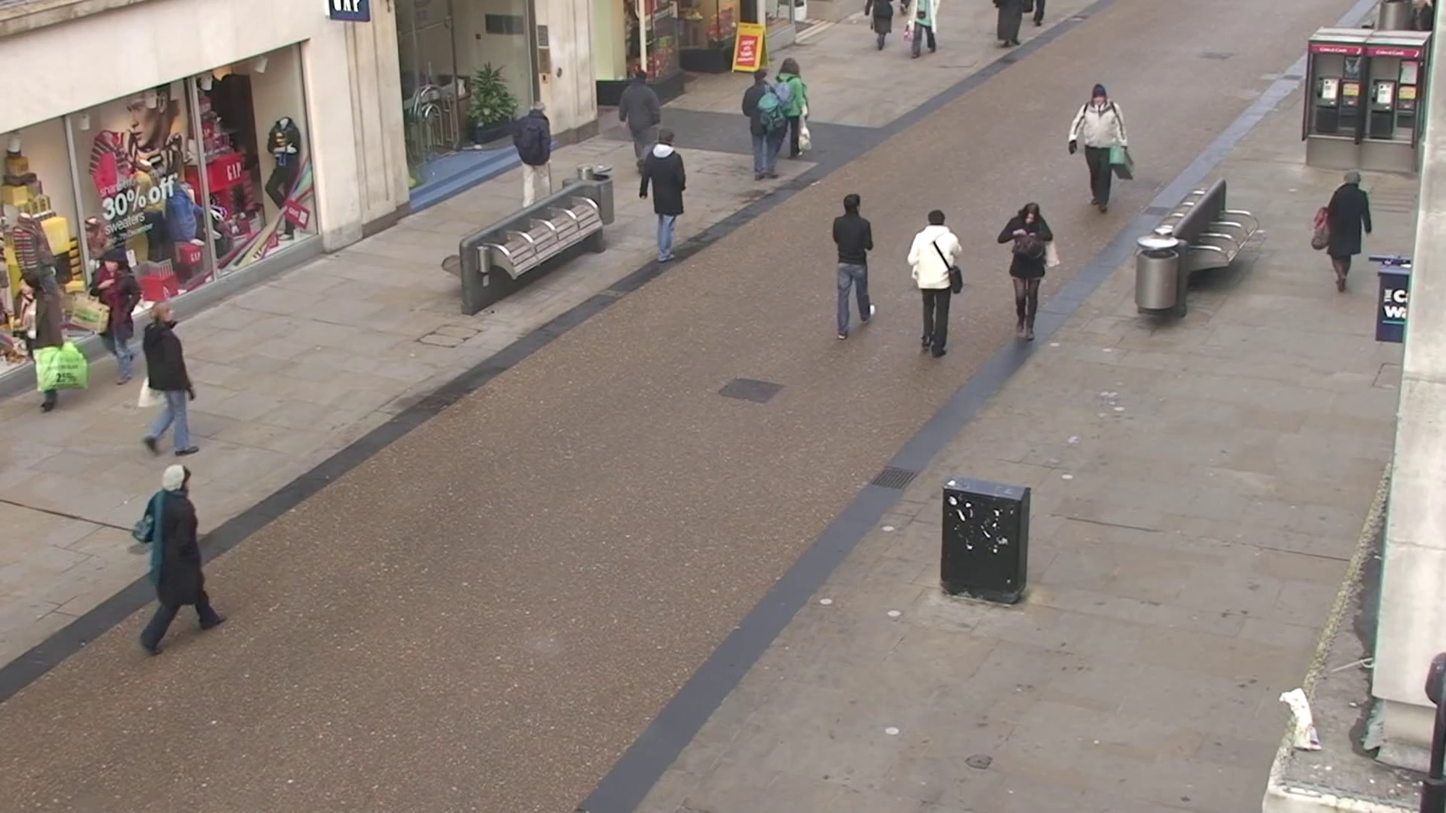person: (131, 462, 225, 656), (0, 254, 81, 426), (491, 101, 583, 237), (136, 306, 199, 457), (906, 207, 966, 359), (1066, 82, 1130, 211), (1004, 200, 1054, 337), (91, 248, 143, 374), (1322, 171, 1374, 295), (639, 130, 688, 260), (832, 193, 875, 335), (618, 67, 665, 195), (743, 65, 786, 178), (770, 59, 810, 158), (854, 0, 898, 56), (907, 0, 944, 66), (993, 0, 1029, 55)
